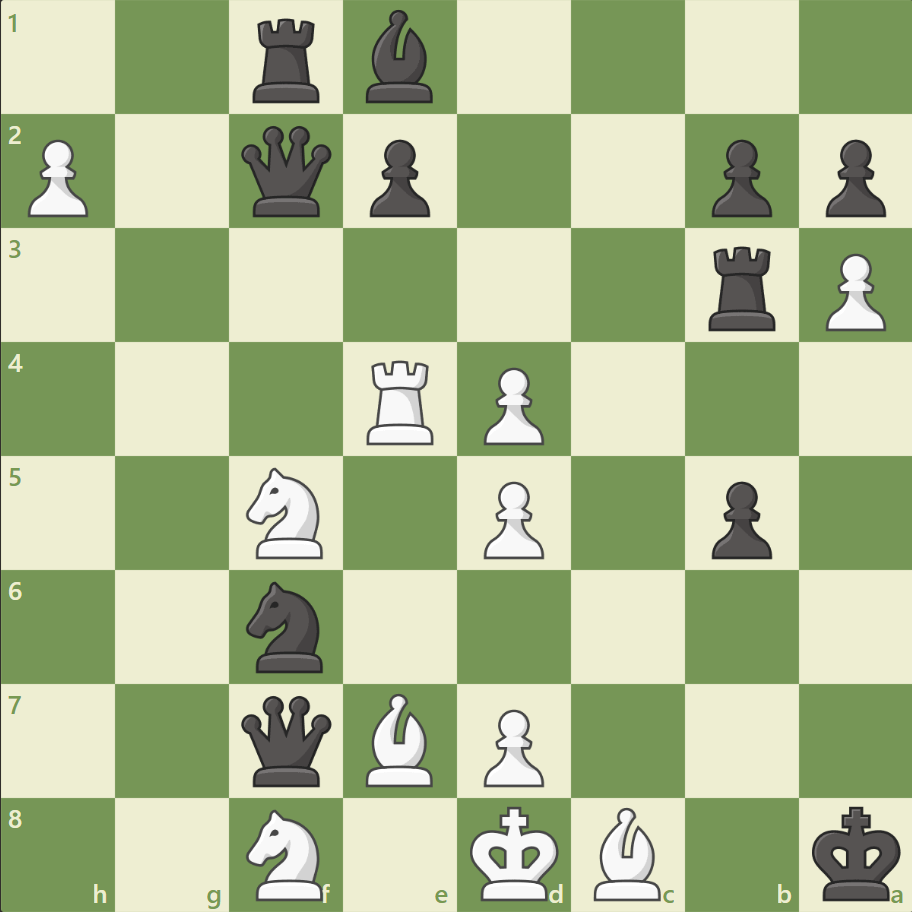B: (585, 801, 669, 904), (358, 687, 442, 790)
K: (465, 798, 565, 906)
N: (238, 461, 335, 564), (238, 802, 335, 904)
P: (474, 700, 549, 791), (474, 473, 549, 564), (474, 359, 549, 450), (20, 132, 95, 223), (815, 246, 889, 337)
R: (360, 352, 442, 449)
b: (358, 6, 442, 109)
k: (806, 798, 906, 906)
n: (238, 575, 335, 677)
p: (701, 473, 776, 564), (701, 132, 776, 223), (815, 132, 889, 223), (361, 132, 435, 223)
q: (237, 122, 336, 222), (237, 690, 336, 789)
r: (700, 239, 783, 336), (246, 12, 329, 109)
